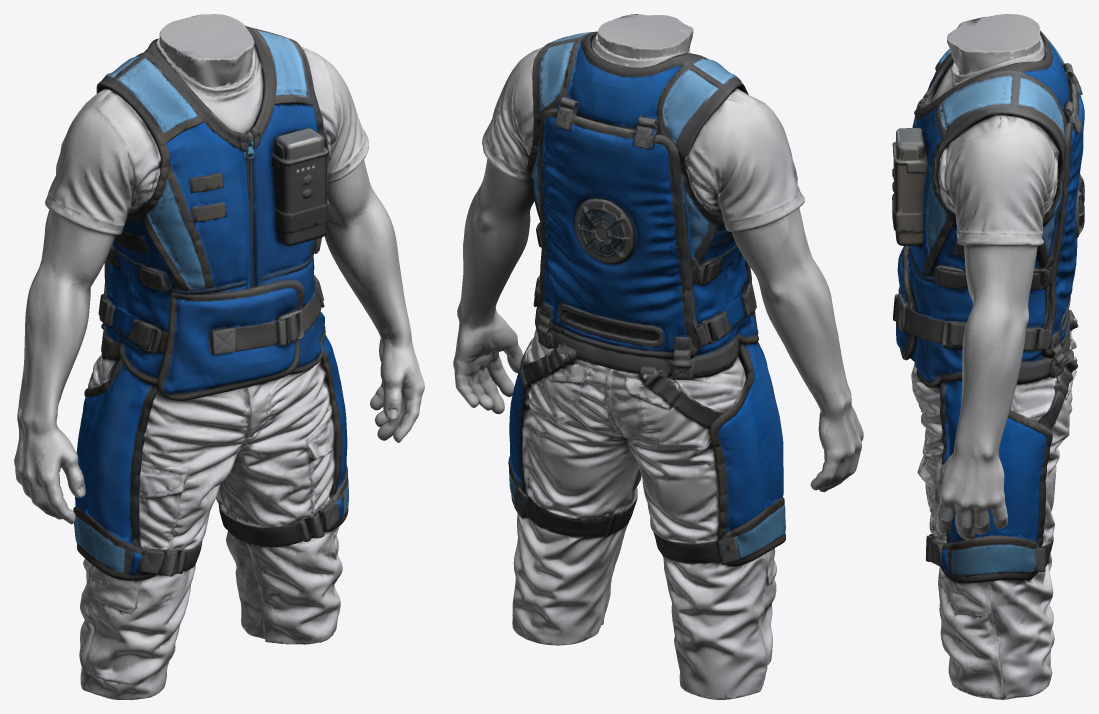
File: BLUE_v3-web.glb
3 renders of one model, left to right at view 1: azimuth 30°, elevation 25°; view 2: azimuth 150°, elevation 25°; view 3: azimuth 270°, elevation 25°, orthographic.
Parts seen in each view (by area): view 1: blue wearable vest 3d model; view 2: blue wearable vest 3d model; view 3: blue wearable vest 3d model.
Part boxes in pixels (bbox=[...]): blue wearable vest 3d model: bbox=[14, 14, 424, 699]; blue wearable vest 3d model: bbox=[453, 14, 863, 699]; blue wearable vest 3d model: bbox=[892, 14, 1084, 699].
Size of the model in its own units: 0.6472 by 0.981 by 0.2745.
1 material, 1 textured.
